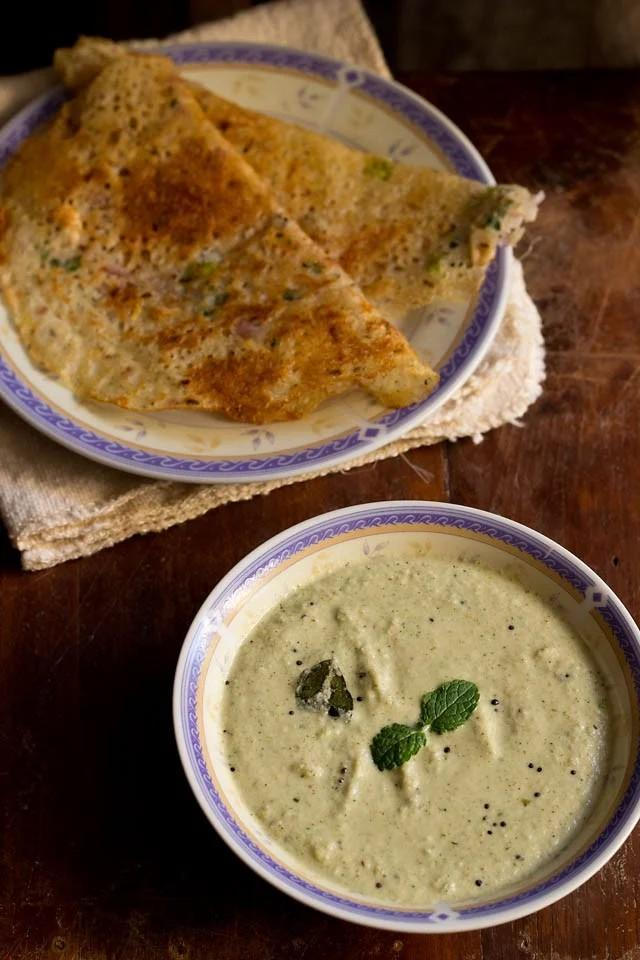CoconutChutney: (223, 557, 615, 917)
